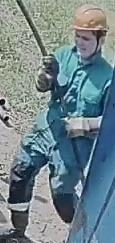gloves: (50, 115, 95, 142), (34, 53, 57, 92)
helmet: (71, 3, 110, 33)
vest: (52, 45, 113, 165)
